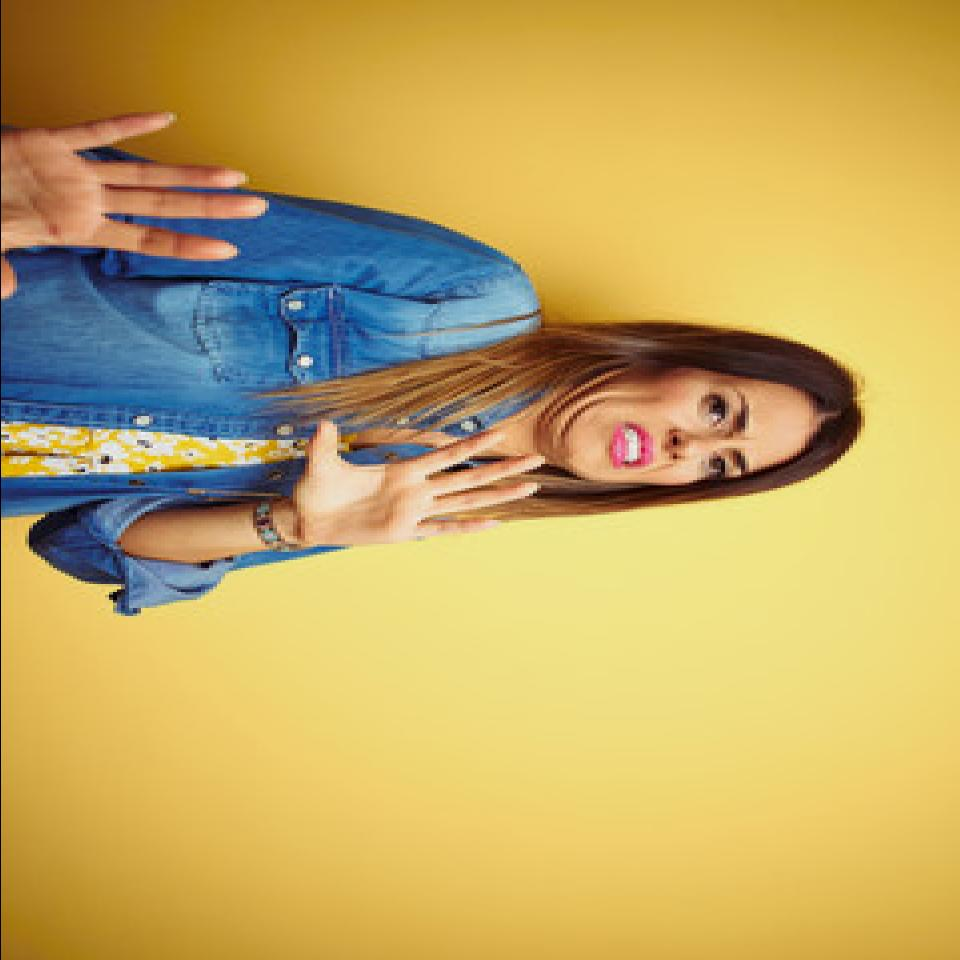Disgust: (539, 367, 822, 500)
